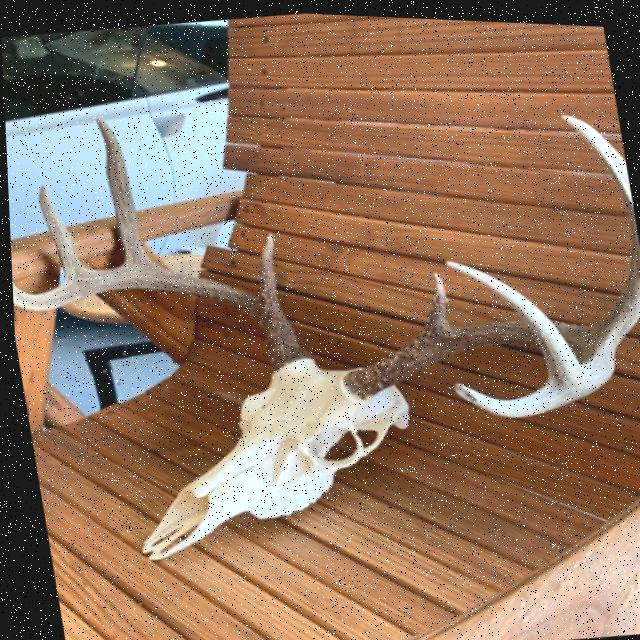L-F: (10, 264, 310, 368)
L-G1: (255, 229, 277, 304)
L-G2: (93, 115, 157, 266)
L-G3: (36, 183, 87, 277)
R-G1: (416, 266, 450, 332)
R-G2: (558, 109, 640, 342)
R-G3: (440, 255, 577, 376)
